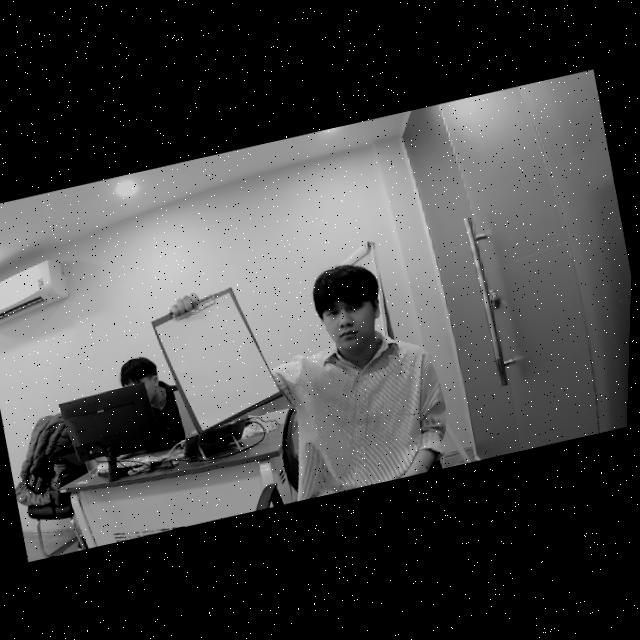face: (313, 256, 397, 361)
